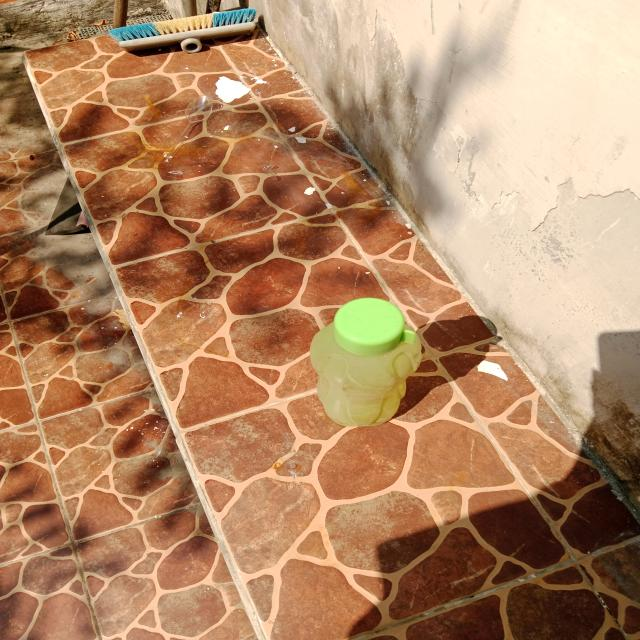botol_minum: (282, 274, 437, 452)
